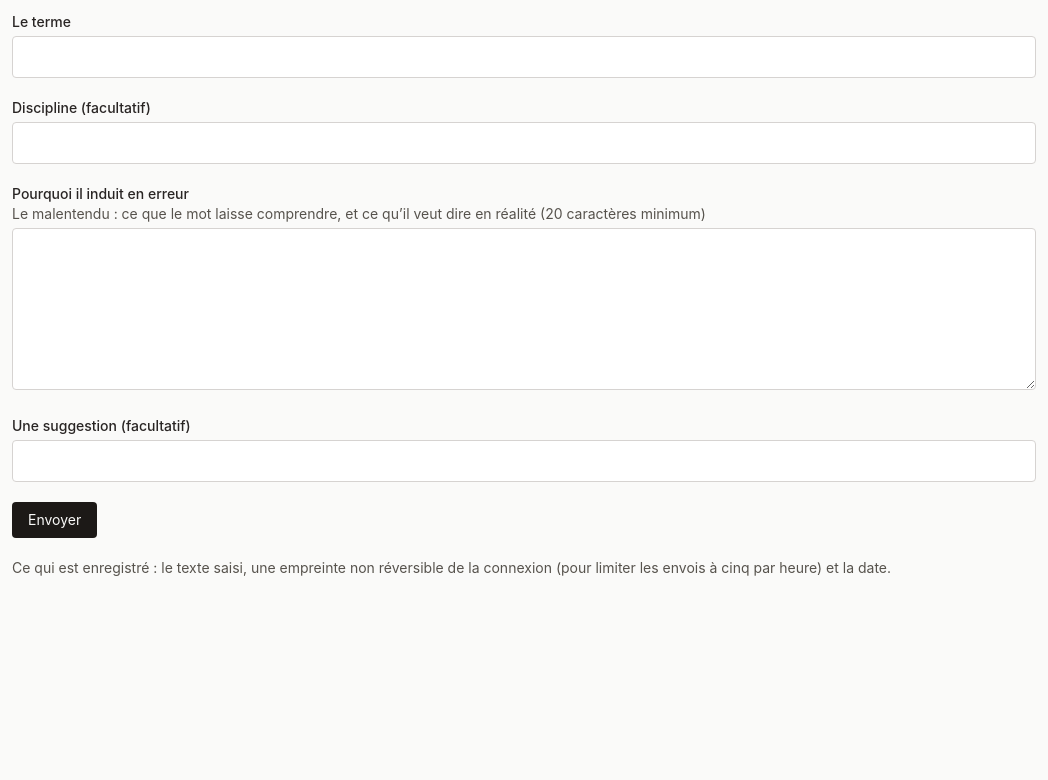
FormulaireProposition › affiche les champs en erreur après 400
Type "Énergie" into the field labelled "Le terme" at (524, 57), box [12,36,1036,78]
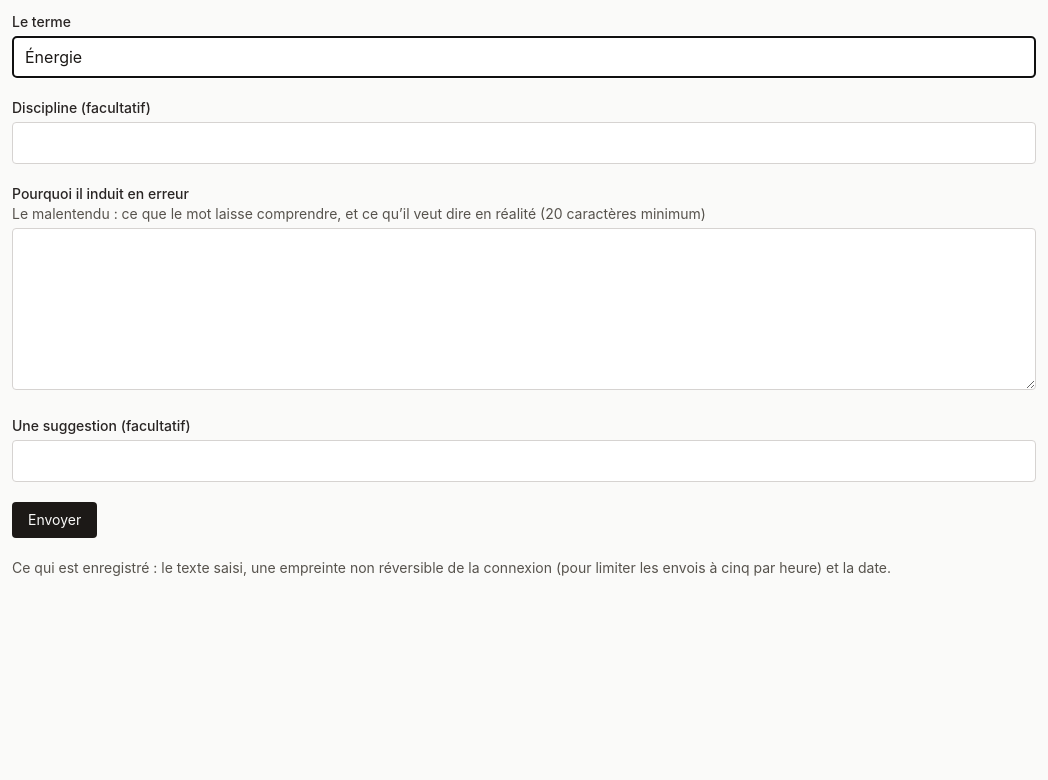
Type "Je croyais que ce mot voulait dire autre chose que son sens réel." into the text box labelled "Pourquoi il induit en erreur" at (524, 309), box [12,228,1036,390]
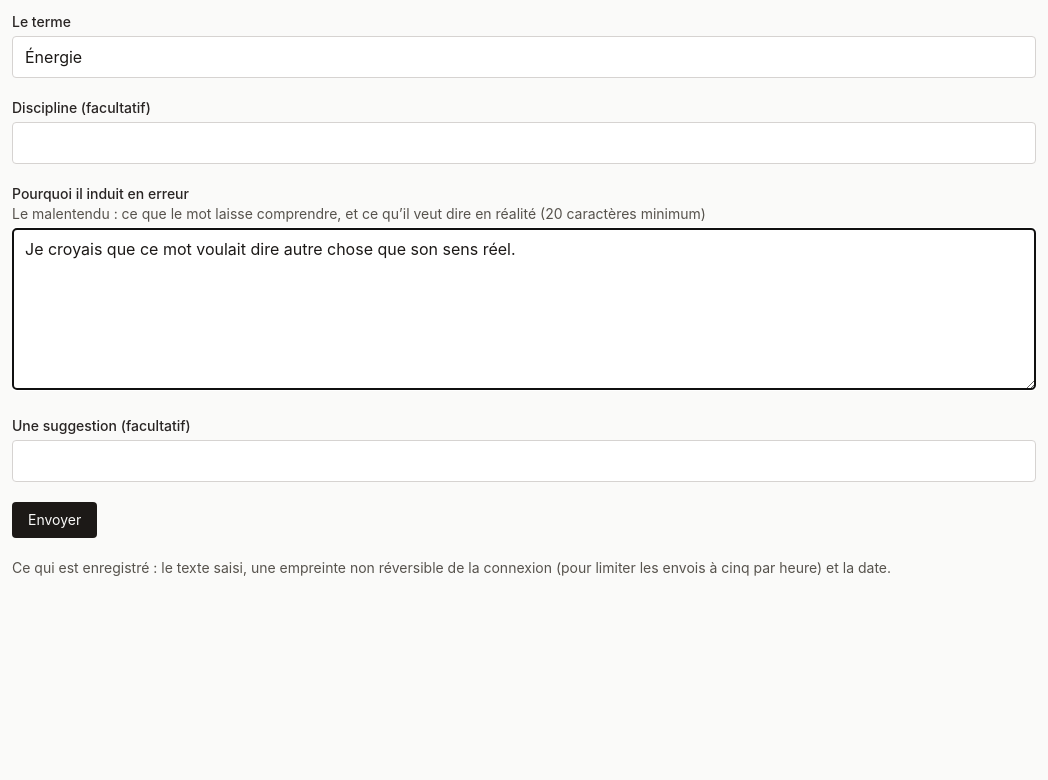
Click the button "Envoyer" at (55, 520), box [12,502,97,538]
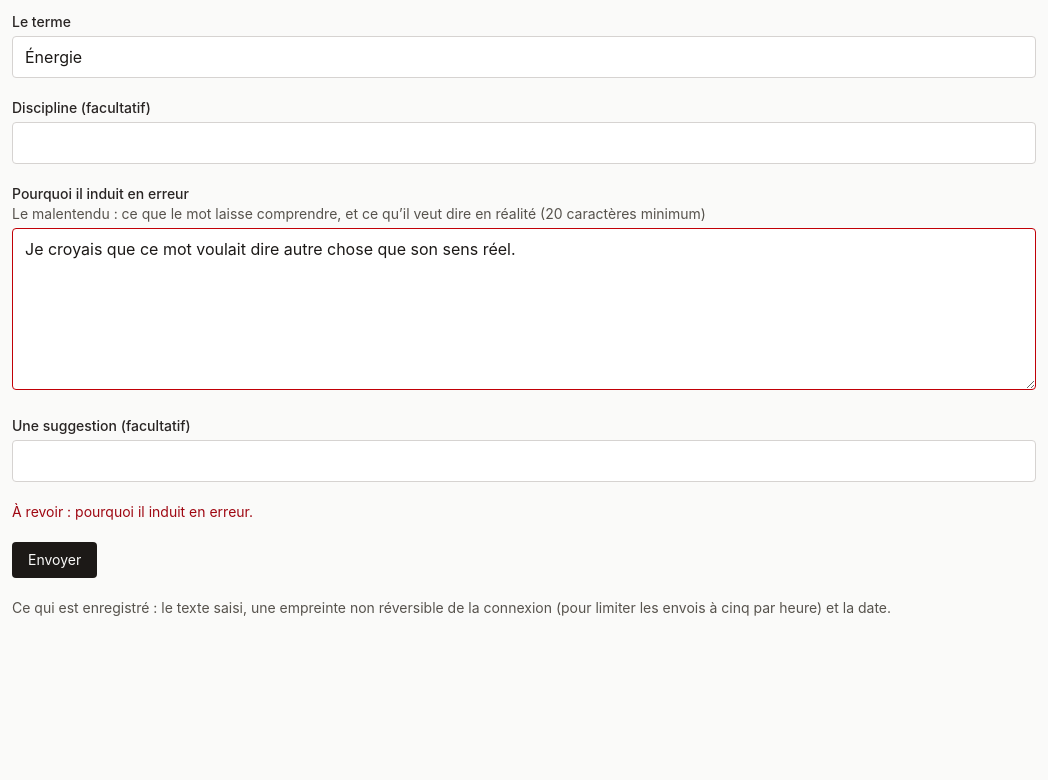
Expected: the message shows "pourquoi", [12,503,253,520]
